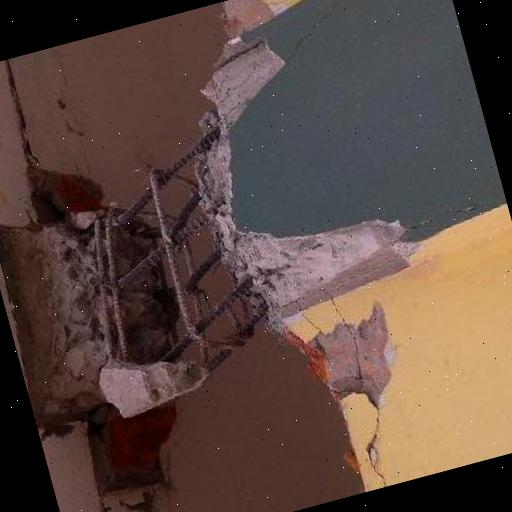spalling: (0, 40, 421, 422), (308, 292, 397, 408)
